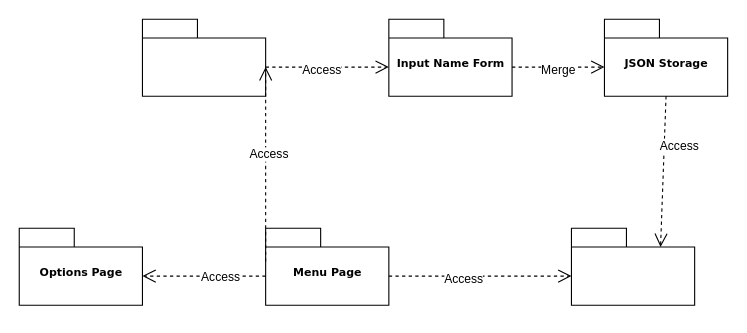
This 747x333 diagram has some shape labels left out. Here are the shapes that lost their labels. From the top down, the centre of each, then its label:
point 203,57: Game Page
point 632,266: Leaderboard Page
